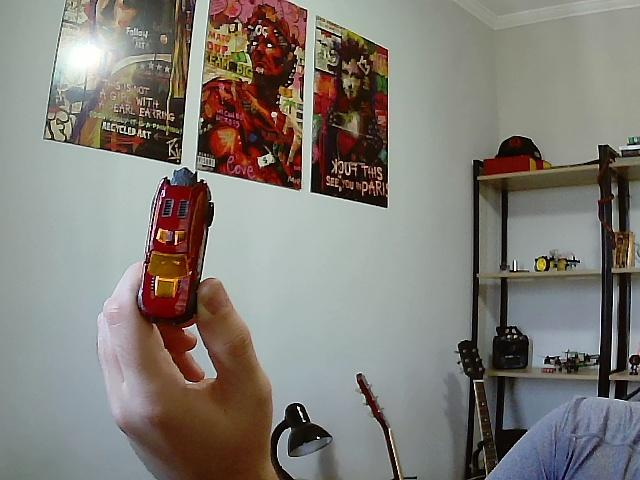Carro: (137, 168, 214, 325)
